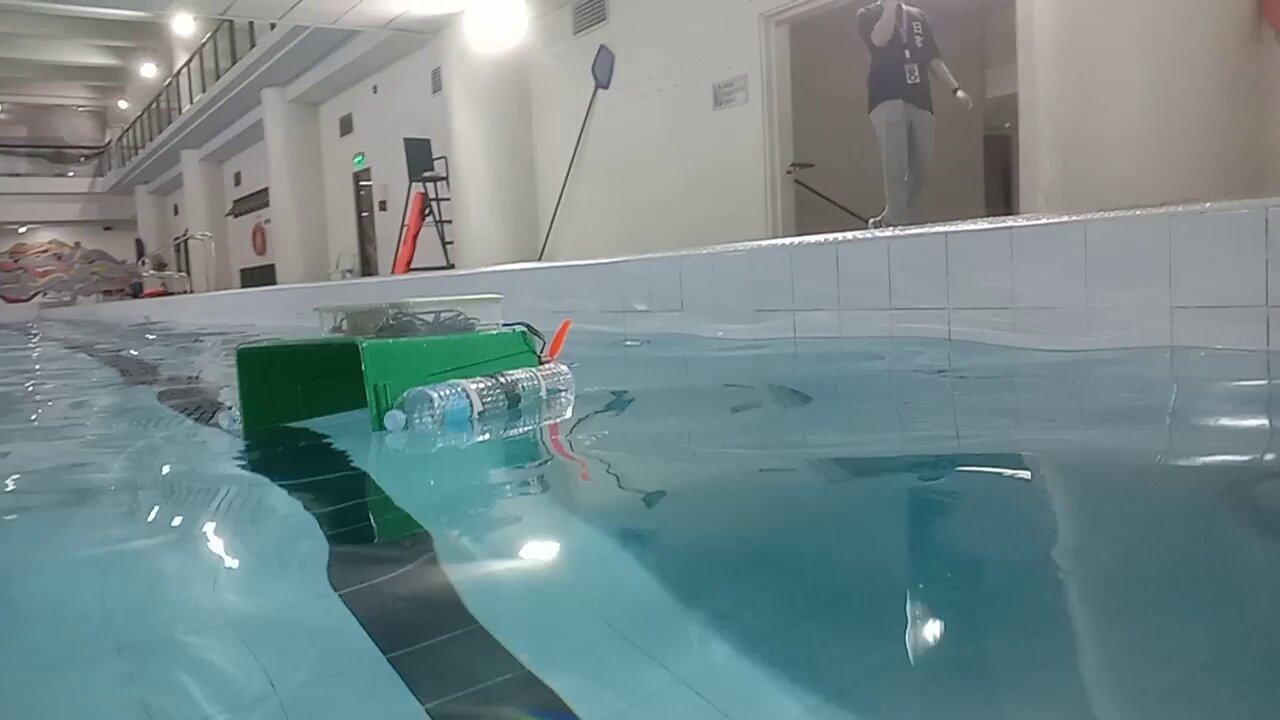drone: (217, 292, 575, 443)
